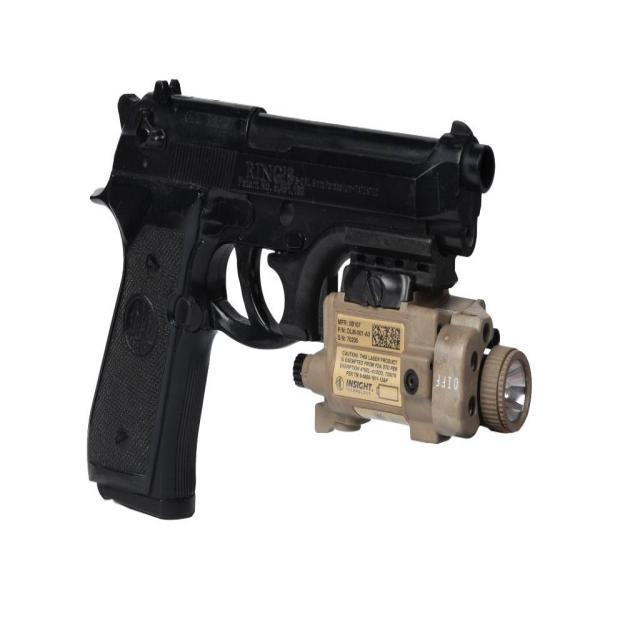Gun: (89, 80, 531, 518)
